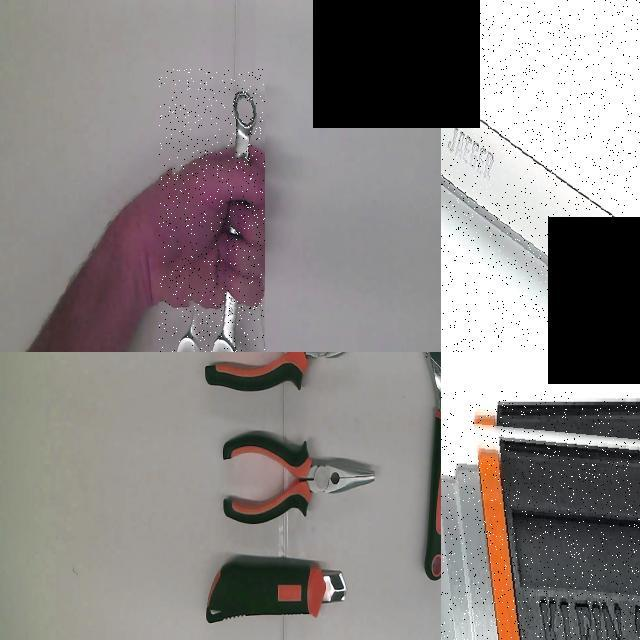estilete: (206, 555, 346, 622)
